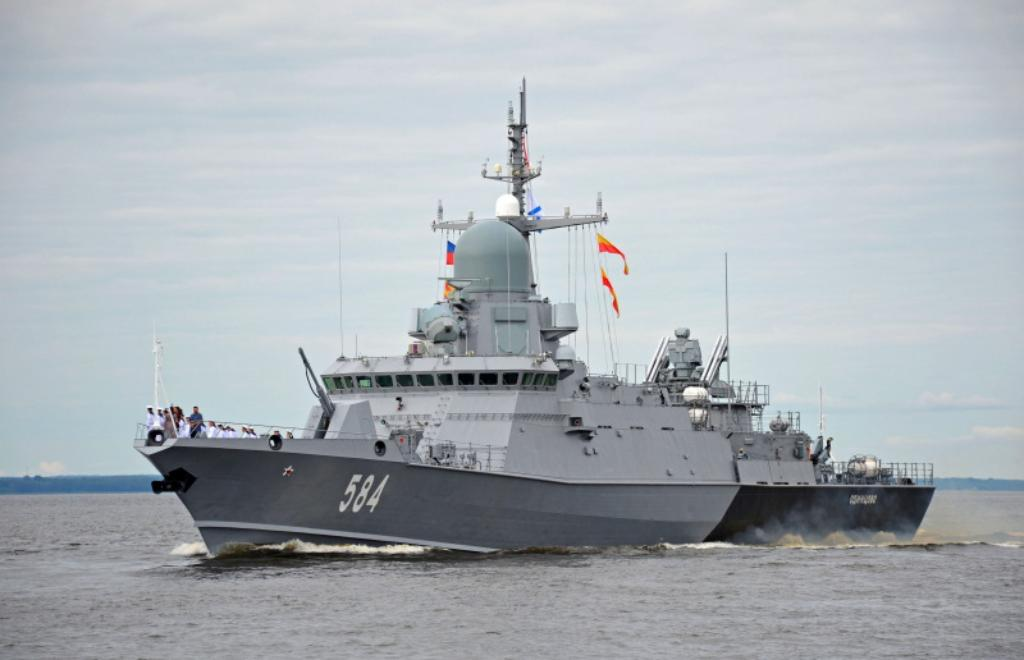Warship: (130, 73, 938, 561)
